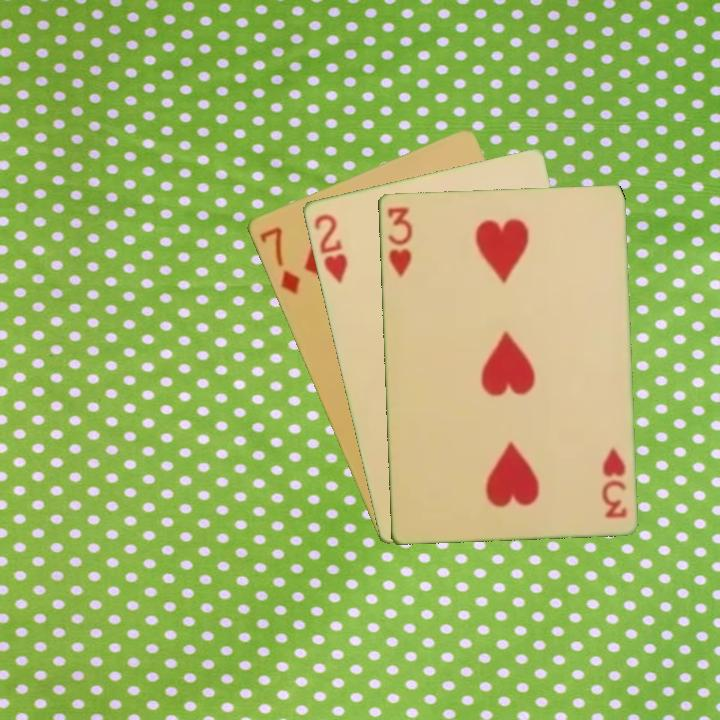2h: (310, 210, 351, 286)
3h: (383, 203, 415, 280), (598, 444, 629, 521)
7d: (255, 223, 303, 297)
